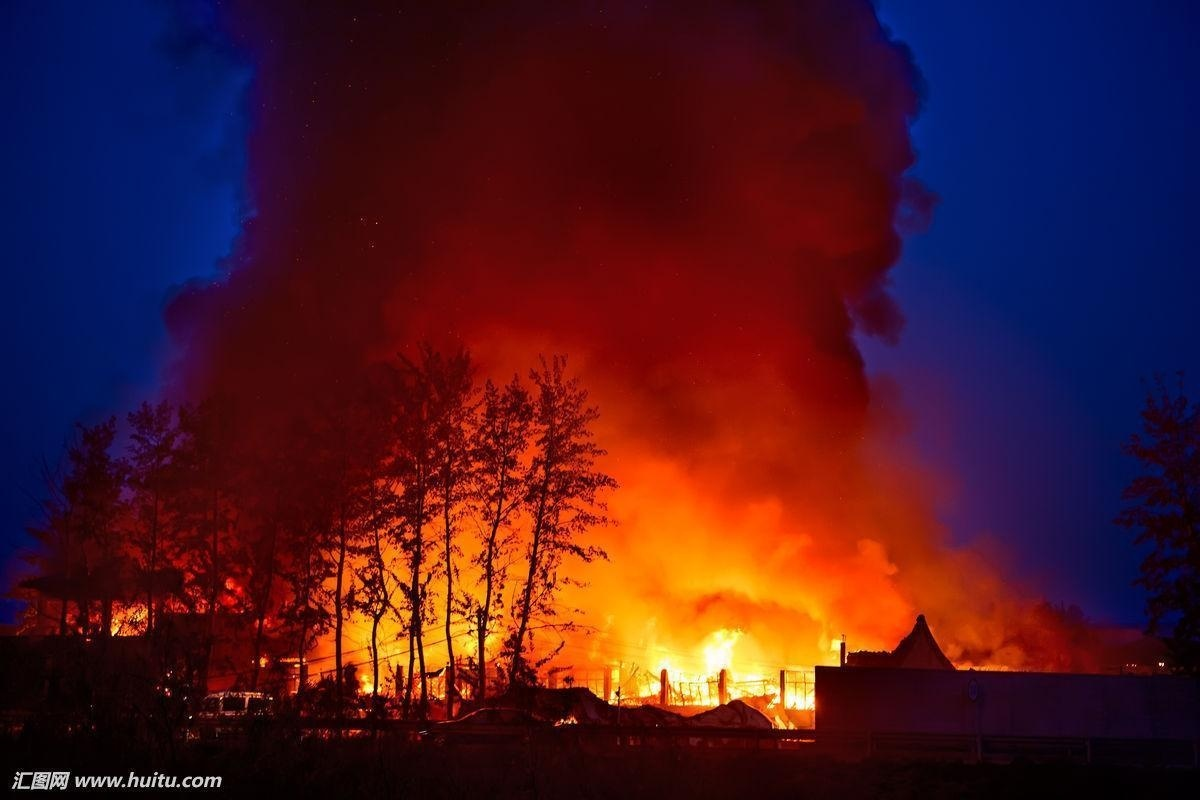fire: (640, 626, 814, 720), (109, 598, 148, 636)
